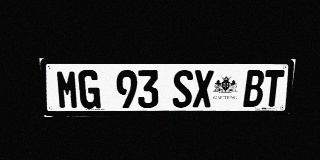3: (138, 70, 158, 108)
9: (116, 70, 137, 108)
B: (243, 70, 265, 107)
G: (78, 70, 101, 109)
M: (55, 70, 79, 109)
S: (172, 70, 193, 108)
T: (262, 70, 285, 107)
X: (193, 70, 214, 108)
